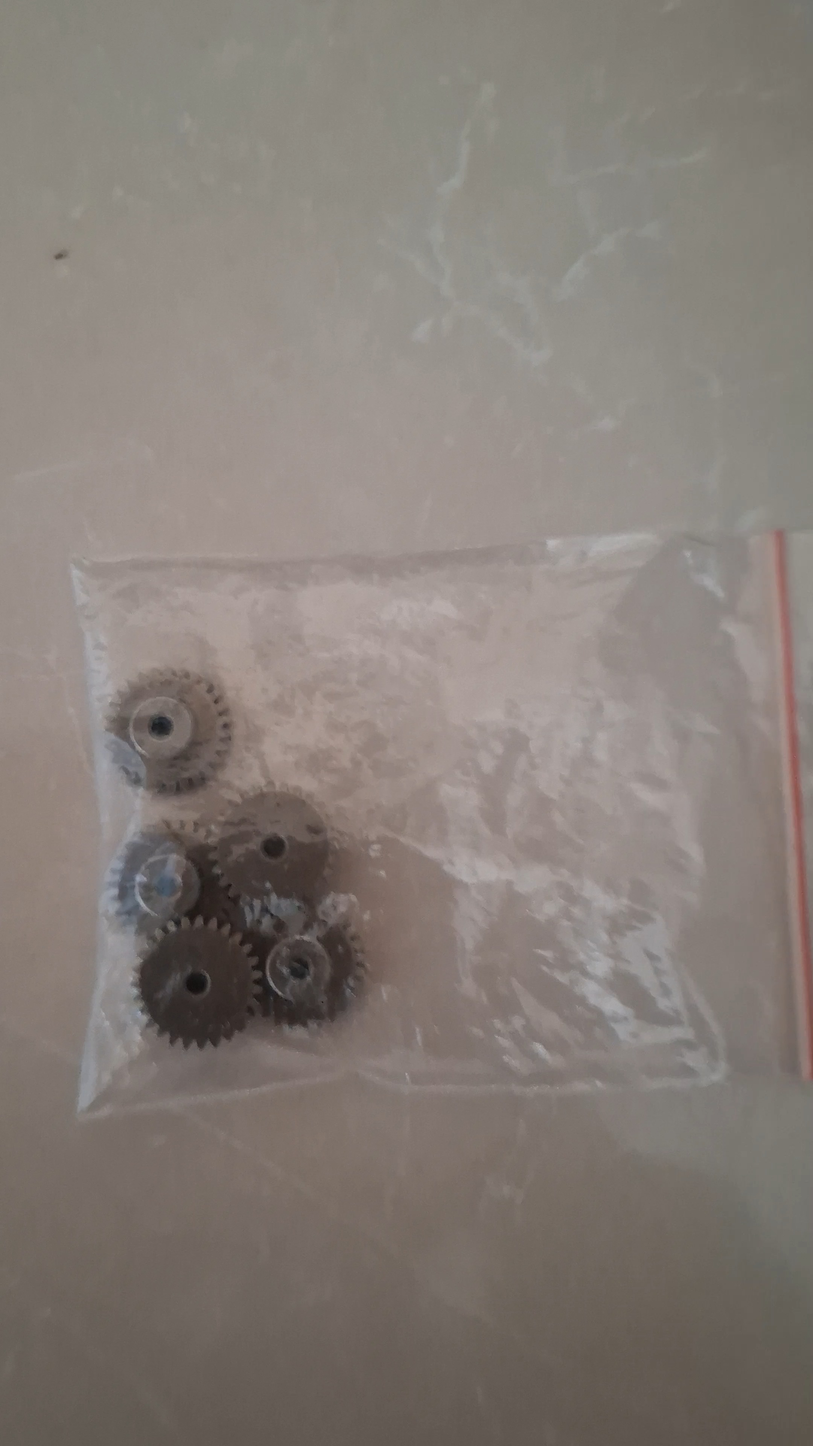spur gear: (137, 917, 261, 1048), (105, 670, 231, 794), (215, 790, 330, 899), (262, 924, 365, 1024), (104, 826, 201, 932)
